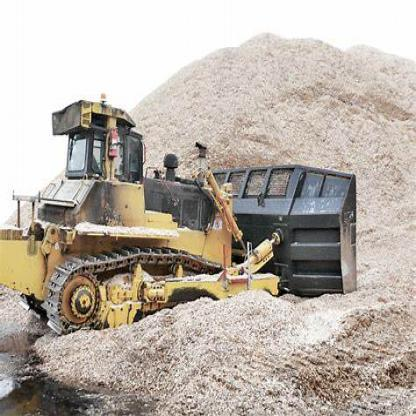bull_dozer/loader/grader: (8, 78, 368, 343)
